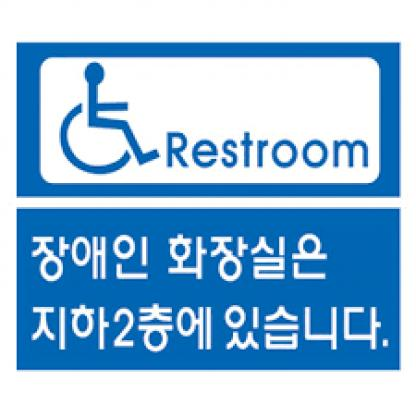toilet: (64, 62, 158, 174)
